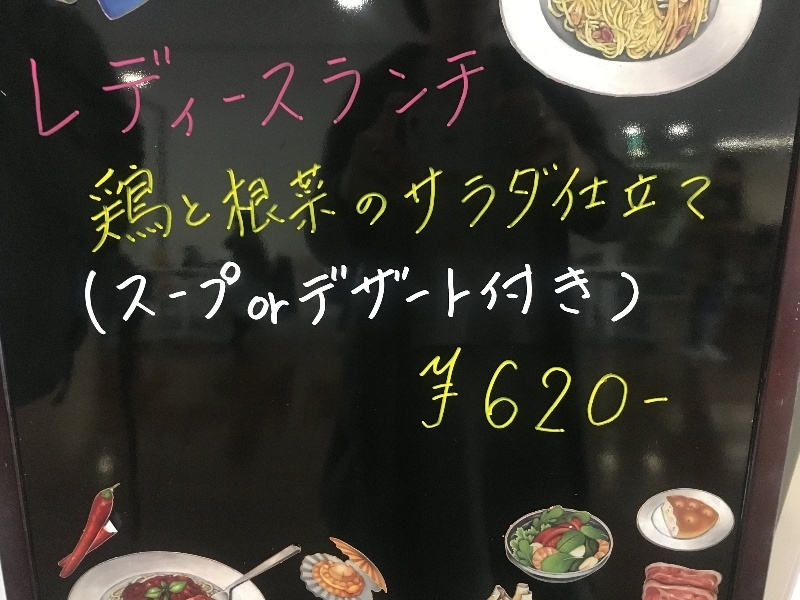text: (97, 147, 112, 256), (113, 147, 128, 256), (129, 147, 144, 256), (145, 147, 160, 256), (161, 147, 176, 256), (177, 147, 192, 256), (193, 147, 208, 256), (209, 147, 224, 256), (225, 147, 240, 256), (241, 147, 256, 256), (257, 147, 272, 256), (273, 147, 288, 256), (289, 147, 304, 256), (305, 147, 320, 256), (321, 147, 336, 256), (337, 147, 352, 256), (353, 147, 368, 256), (369, 147, 384, 256), (385, 147, 400, 256), (401, 147, 416, 256), (417, 147, 432, 256), (433, 147, 448, 256), (449, 147, 464, 256), (465, 147, 480, 256), (481, 147, 496, 256), (497, 147, 512, 256), (513, 147, 528, 256), (529, 147, 544, 256), (545, 147, 560, 256), (561, 147, 576, 256), (577, 147, 592, 256), (593, 147, 608, 256), (609, 147, 624, 256), (625, 147, 640, 256), (641, 147, 656, 256), (657, 147, 672, 256), (673, 147, 688, 256), (689, 147, 704, 256), (33, 34, 48, 141), (49, 34, 64, 141), (65, 34, 80, 141), (81, 34, 96, 141), (97, 34, 112, 141), (113, 34, 128, 141), (129, 34, 144, 141), (145, 34, 160, 141), (161, 34, 176, 141), (177, 34, 192, 141), (193, 34, 208, 141), (209, 34, 224, 141), (225, 34, 240, 141), (241, 34, 256, 141), (257, 34, 272, 141), (273, 34, 288, 141), (289, 34, 304, 141), (305, 34, 320, 141), (321, 34, 336, 141), (337, 34, 352, 141), (353, 34, 368, 141), (369, 34, 384, 141), (385, 34, 400, 141), (401, 34, 416, 141), (417, 34, 432, 141), (433, 34, 448, 141), (449, 34, 464, 141), (465, 34, 480, 141), (625, 246, 641, 336), (433, 344, 448, 435), (449, 344, 464, 435), (465, 344, 480, 435), (481, 344, 496, 435), (497, 344, 512, 435), (513, 344, 528, 435), (529, 344, 544, 435), (545, 344, 560, 435), (561, 344, 576, 435), (577, 344, 592, 435), (593, 344, 608, 435), (609, 344, 624, 435), (625, 344, 640, 435), (641, 344, 656, 435), (97, 246, 112, 336), (113, 246, 128, 336), (129, 246, 144, 336), (145, 246, 160, 336), (161, 246, 176, 336), (177, 246, 192, 336), (193, 246, 208, 336), (209, 246, 224, 336), (225, 246, 240, 336), (241, 246, 256, 336), (257, 246, 272, 336), (273, 246, 288, 336), (289, 246, 304, 336), (305, 246, 320, 336), (321, 246, 336, 336), (337, 246, 352, 336), (353, 246, 368, 336), (369, 246, 384, 336), (385, 246, 400, 336), (401, 246, 416, 336), (417, 246, 432, 336), (433, 246, 448, 336), (449, 246, 464, 336), (465, 246, 480, 336), (481, 246, 496, 336), (497, 246, 512, 336), (513, 246, 528, 336), (529, 246, 544, 336), (545, 246, 560, 336), (561, 246, 576, 336), (577, 246, 592, 336), (593, 246, 608, 336), (609, 246, 624, 336), (705, 147, 717, 256), (657, 344, 671, 435), (419, 344, 432, 435), (86, 246, 96, 336), (89, 147, 96, 256), (481, 34, 485, 141), (30, 34, 32, 141)
